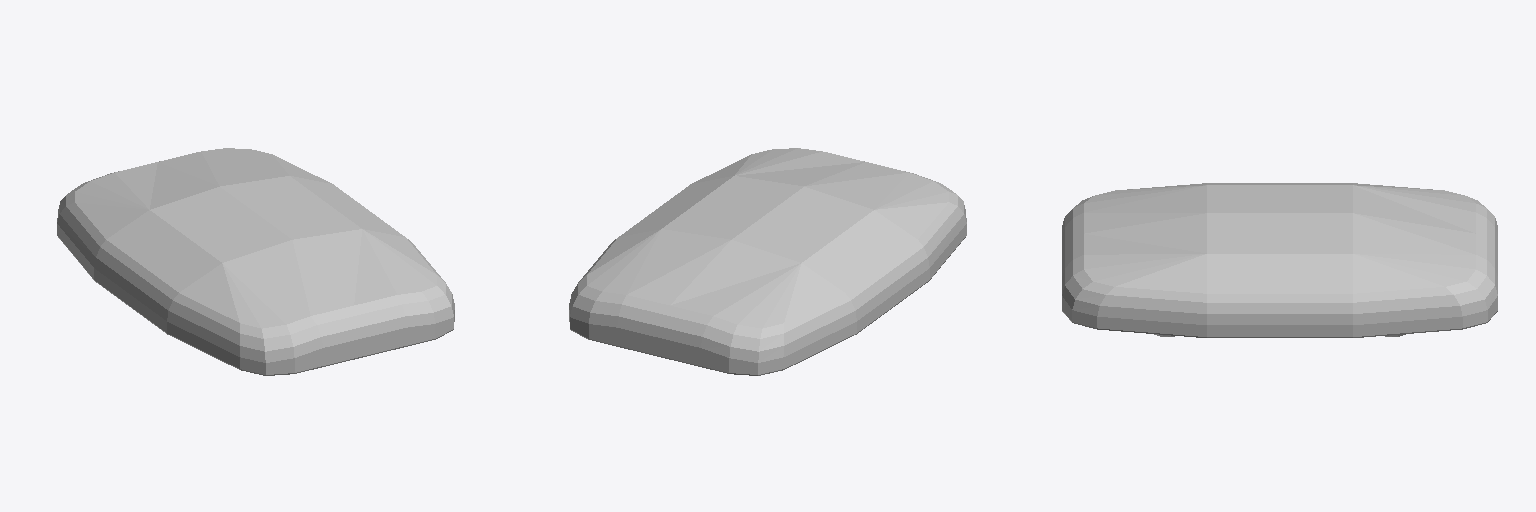
File: RobotEverywhere.obj
3 views of the same model, side by side, from view 1: azimuth 30°, elevation 25°; view 2: azimuth 150°, elevation 25°; view 3: azimuth 270°, elevation 25° (orthographic).
Visible parts, largest first — view 1: Body; view 2: Body; view 3: Body.
Boxes of the visible parts, x1,y1,x2,y2 form: Body: [57, 148, 454, 375]; Body: [569, 148, 966, 375]; Body: [1062, 183, 1497, 337].
Size of the model in its own units: 1.33 by 0.4339 by 2.